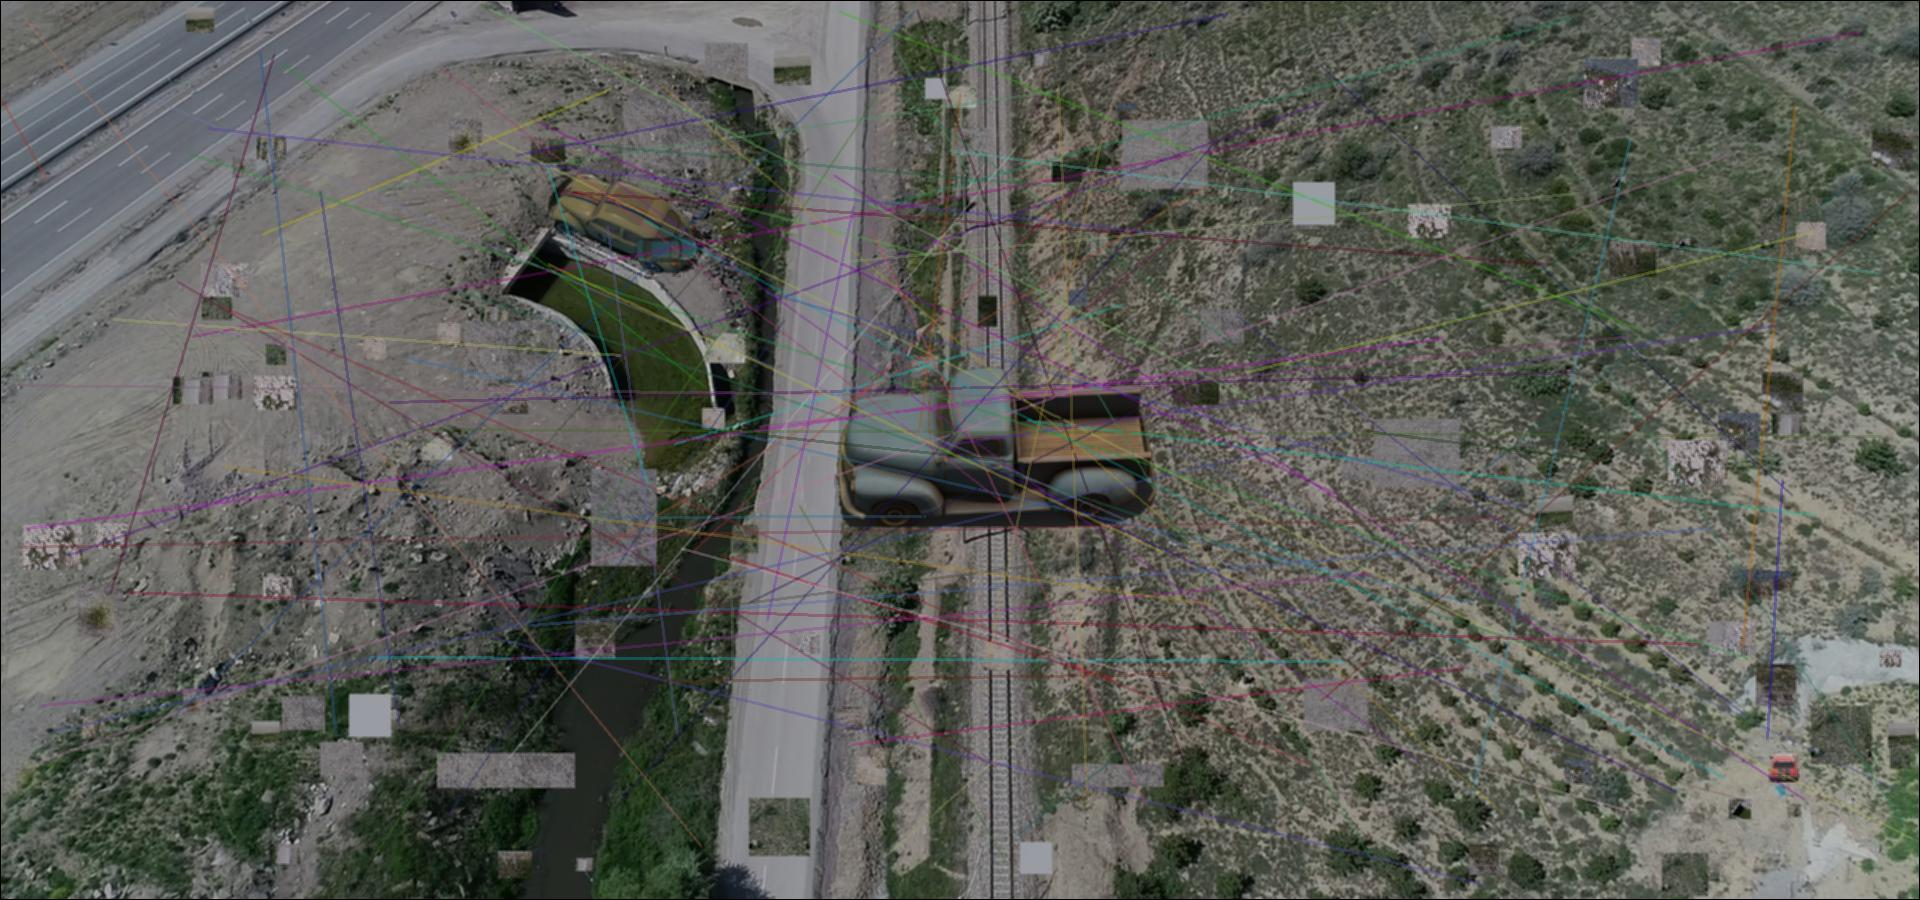arac: (836, 367, 1156, 527), (549, 171, 704, 279), (636, 236, 698, 264), (1764, 749, 1800, 782)
